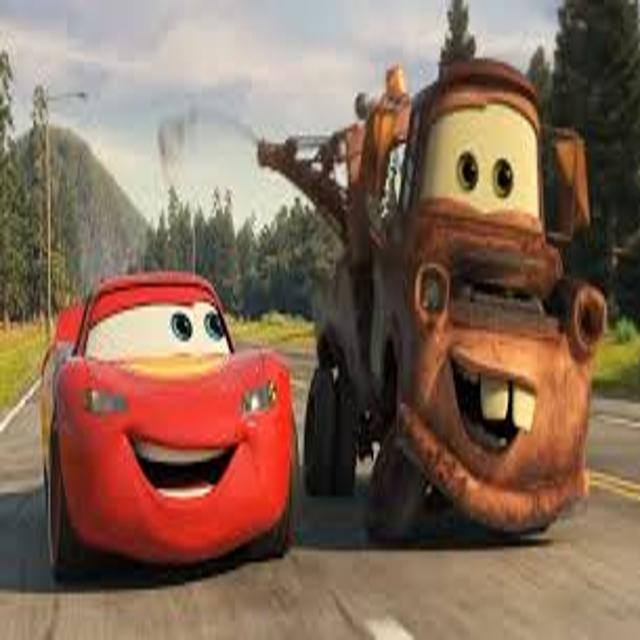car: (308, 59, 606, 536), (39, 273, 300, 579)
